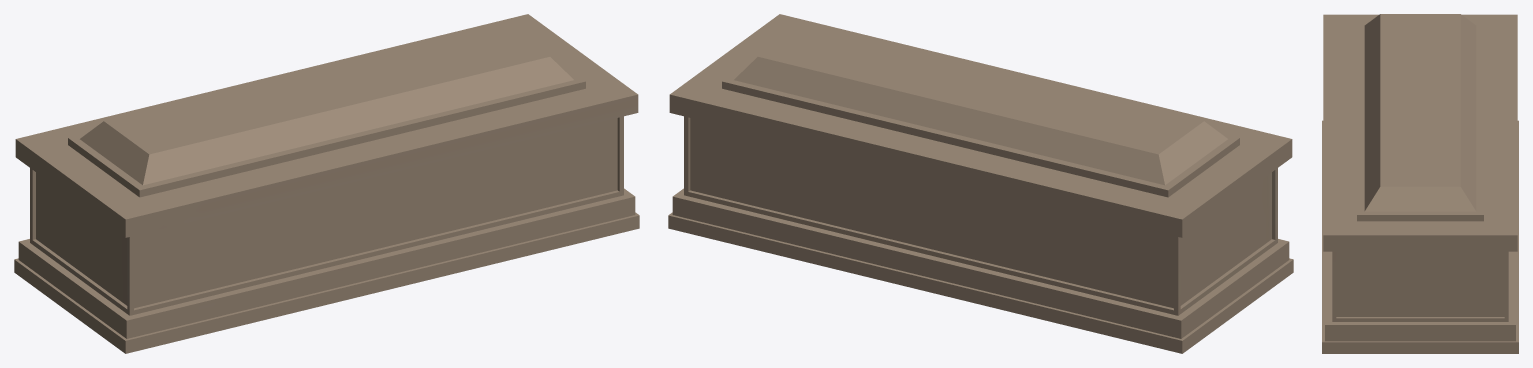
The model's file is kit-coffin-2.glb.
3 renders of one model, left to right at view 1: azimuth 30°, elevation 25°; view 2: azimuth 150°, elevation 25°; view 3: azimuth 270°, elevation 25°, orthographic. The views are drawn at different scales.
Visible parts, largest first — view 1: Cube.298; view 2: Cube.298; view 3: Cube.298.
Part boxes in pixels (box(x1,y1,x2,y2)): Cube.298: box(14, 14, 639, 353); Cube.298: box(668, 14, 1293, 353); Cube.298: box(1322, 14, 1518, 353).
Bounding box in the file's own units: 1.95 × 0.584 × 0.7298.
Materials: 1 (1 with a texture image).
